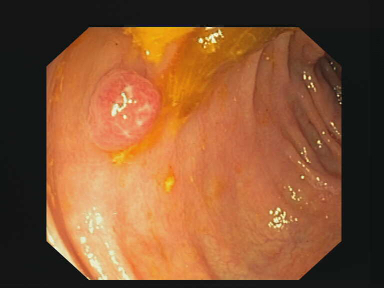polyp: (88, 66, 162, 155)
